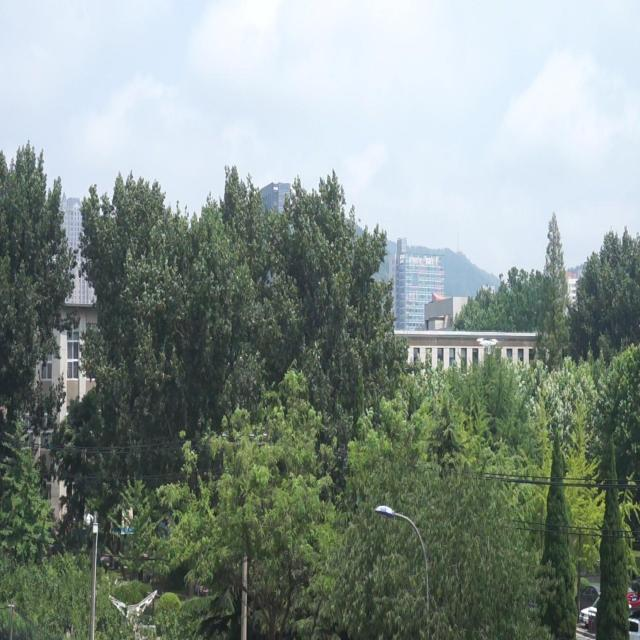drone: (476, 334, 498, 357)
